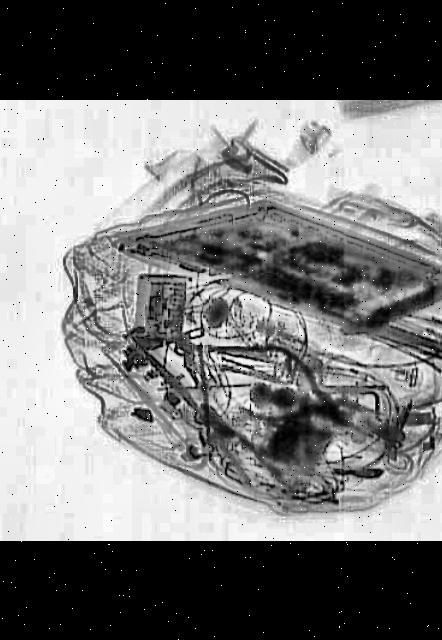Pliers: (184, 326, 386, 449)
